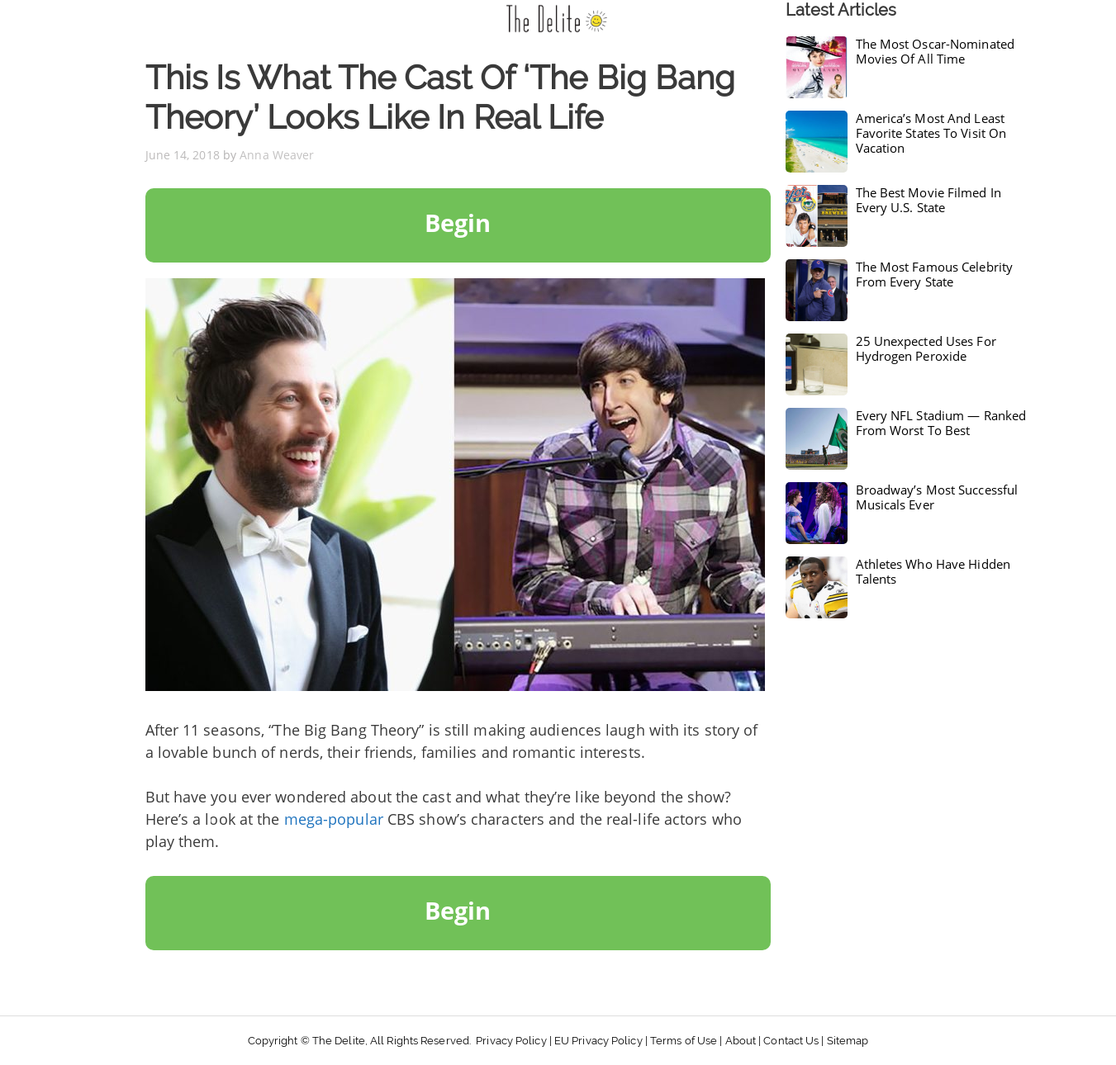fake_button: (128, 865, 772, 969), (131, 179, 774, 281)
